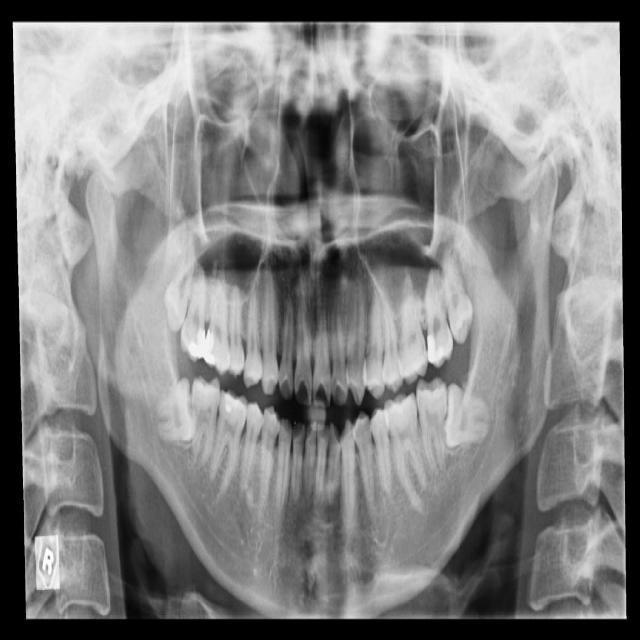Filling: (203, 328, 217, 366), (221, 392, 246, 412), (188, 328, 205, 357)
impacted tooth: (444, 383, 492, 449), (151, 377, 196, 441), (443, 246, 473, 342), (164, 251, 194, 331)
